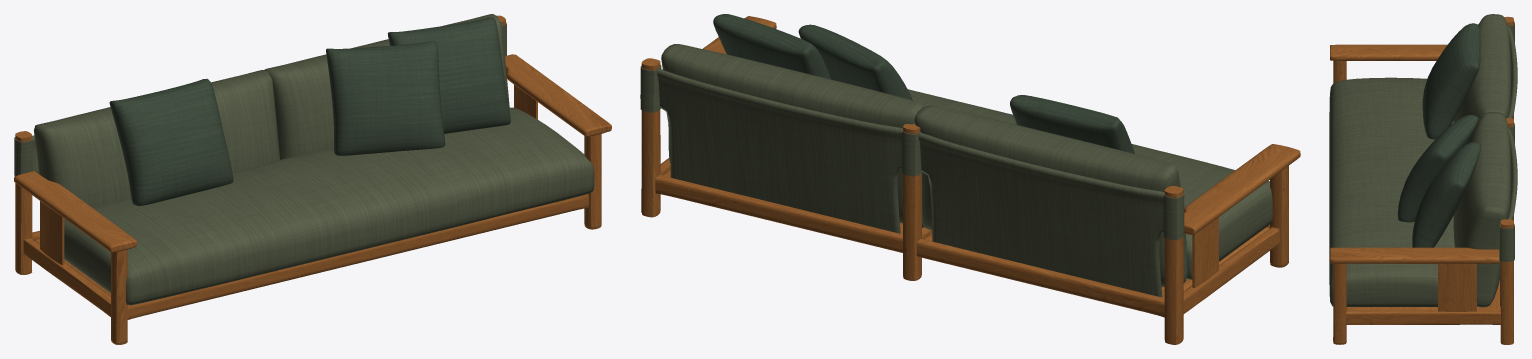
File: sofa.glb
3 renders of one model, left to right at view 1: azimuth 30°, elevation 25°; view 2: azimuth 150°, elevation 25°; view 3: azimuth 270°, elevation 25°, orthographic. The views are drawn at different scales.
Visible parts, largest first — view 1: KETCH_SOFA; view 2: KETCH_SOFA; view 3: KETCH_SOFA.
Part boxes in pixels (x1=…): KETCH_SOFA: x1=14, y1=14, x2=611, y2=344; KETCH_SOFA: x1=640, y1=14, x2=1300, y2=344; KETCH_SOFA: x1=1329, y1=14, x2=1517, y2=344.
Size of the model in its own units: 2.58 by 0.8239 by 0.9578.
Materials: 1 (1 with a texture image).
